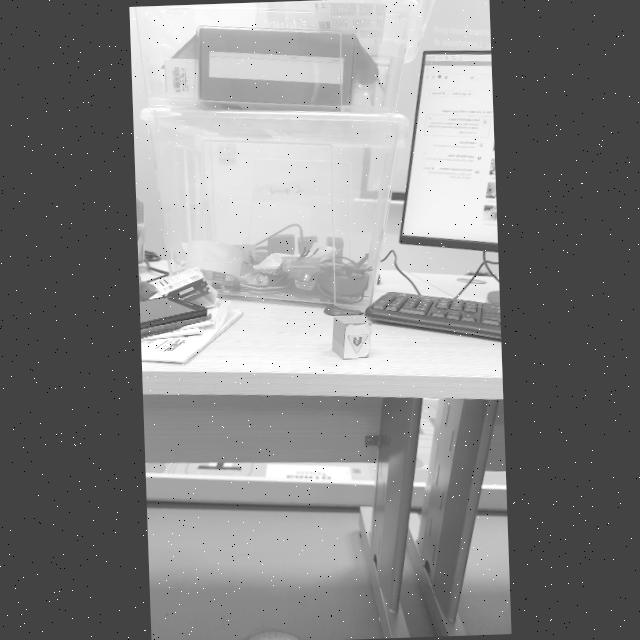Earthquake: (348, 334, 367, 353)
